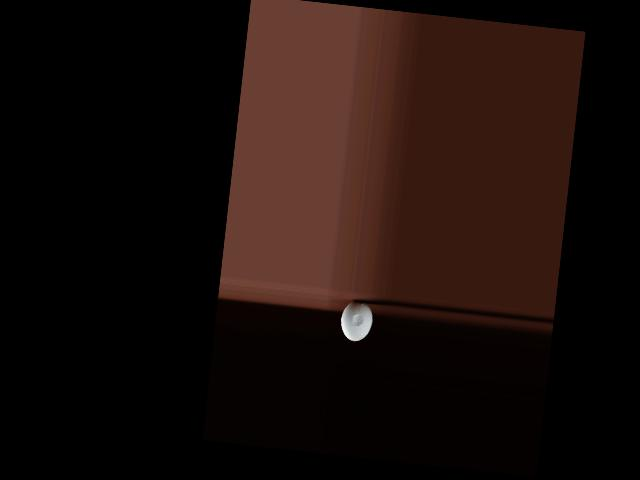egg: (339, 299, 374, 343)
